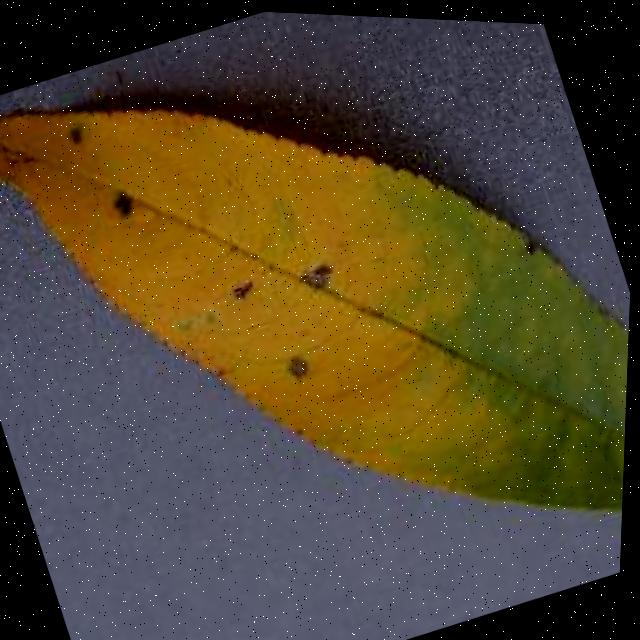Bacterial_spot: (258, 326, 332, 402), (283, 238, 358, 312), (210, 260, 273, 320), (98, 173, 154, 234), (52, 106, 104, 161), (505, 226, 559, 273)
